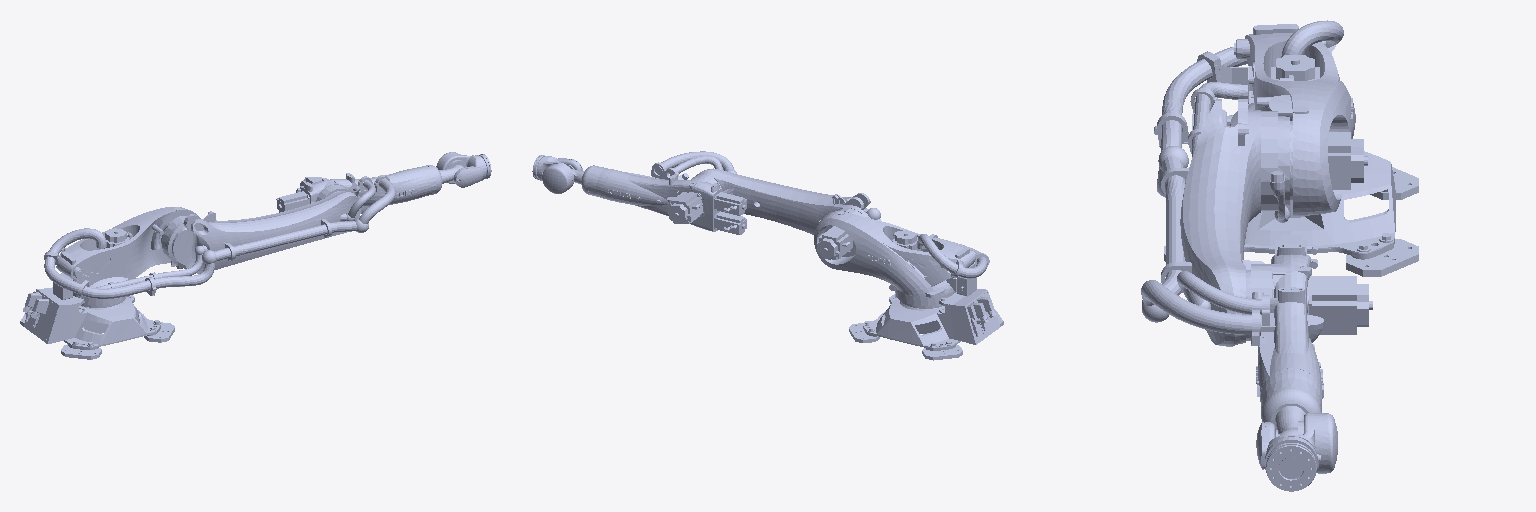
The robot description file, URDF, robot "KR210_R3300_K_ultra":
<robot
  name="KR210_R3300_K_ultra">
  <link
    name="base_link">
    <inertial>
      <origin
        xyz="-0.20775 0.12808 -0.00055823"
        rpy="0 0 0" />
      <mass
        value="120.88" />
      <inertia
        ixx="4.0664"
        ixy="0.91423"
        ixz="-0.027244"
        iyy="11.296"
        iyz="0.010672"
        izz="9.0263" />
    </inertial>
    <visual>
      <origin
        xyz="0 0 0"
        rpy="0 0 0" />
      <geometry>
        <mesh
          filename="package://kuka_kr210_support/meshes/kr210r3300kultra/base_link.STL" />
      </geometry>
      <material
        name="">
        <color
          rgba="0.79216 0.81961 0.93333 1" />
      </material>
    </visual>
    <collision>
      <origin
        xyz="0 0 0"
        rpy="0 0 0" />
      <geometry>
        <mesh
          filename="package://kuka_kr210_support/meshes/kr210r3300kultra/base_link.STL" />
      </geometry>
    </collision>
  </link>
  <link
    name="link_a1">
    <inertial>
      <origin
        xyz="0.17966 -0.010383 0.28193"
        rpy="0 0 0" />
      <mass
        value="146.16" />
      <inertia
        ixx="6.6882"
        ixy="-1.2586"
        ixz="-2.0837"
        iyy="19.319"
        iyz="-0.47947"
        izz="20.822" />
    </inertial>
    <visual>
      <origin
        xyz="0 0 0"
        rpy="0 0 0" />
      <geometry>
        <mesh
          filename="package://kuka_kr210_support/meshes/kr210r3300kultra/link_a1.STL" />
      </geometry>
      <material
        name="">
        <color
          rgba="0.79216 0.81961 0.93333 1" />
      </material>
    </visual>
    <collision>
      <origin
        xyz="0 0 0"
        rpy="0 0 0" />
      <geometry>
        <mesh
          filename="package://kuka_kr210_support/meshes/kr210r3300kultra/link_a1.STL" />
      </geometry>
    </collision>
  </link>
  <joint
    name="joint_a1"
    type="revolute">
    <origin
      xyz="0 0.01 0.21464"
      rpy="0.0 0.0 0.0" />
    <parent
      link="base_link" />
    <child
      link="link_a1" />
    <axis
      xyz="0 0 -1" />
    <limit
      lower="-3.2289"
      upper="3.2289"
      effort="0"
      velocity="1.8326" />
  </joint>
  <link
    name="link_a2">
    <inertial>
      <origin
        xyz="0.0055355 -0.26456 0.54174"
        rpy="0 0 0" />
      <mass
        value="126.48" />
      <inertia
        ixx="27.784"
        ixy="0.0076365"
        ixz="-0.045473"
        iyy="27.097"
        iyz="2.6236"
        izz="2.5095" />
    </inertial>
    <visual>
      <origin
        xyz="0 0 0"
        rpy="0 0 0" />
      <geometry>
        <mesh
          filename="package://kuka_kr210_support/meshes/kr210r3300kultra/link_a2.STL" />
      </geometry>
      <material
        name="">
        <color
          rgba="0.79216 0.81961 0.93333 1" />
      </material>
    </visual>
    <collision>
      <origin
        xyz="0 0 0"
        rpy="0 0 0" />
      <geometry>
        <mesh
          filename="package://kuka_kr210_support/meshes/kr210r3300kultra/link_a2.STL" />
      </geometry>
    </collision>
  </link>
  <joint
    name="joint_a2"
    type="revolute">
    <origin
      xyz="0.75 -0.01 0.37536"
      rpy="0.0 1.570796 0.0" />
    <parent
      link="link_a1" />
    <child
      link="link_a2" />
    <axis
      xyz="0 1 0" />
    <limit
      lower="-2.0944"
      upper="1.2217"
      effort="0"
      velocity="1.7628" />
  </joint>
  <link
    name="link_a3">
    <inertial>
      <origin
        xyz="0.23647 -0.043853 -0.014836"
        rpy="0 0 0" />
      <mass
        value="85.793" />
      <inertia
        ixx="2.3827"
        ixy="-0.12099"
        ixz="0.23925"
        iyy="11.514"
        iyz="0.29194"
        izz="12.66" />
    </inertial>
    <visual>
      <origin
        xyz="0 0 0"
        rpy="0 0 0" />
      <geometry>
        <mesh
          filename="package://kuka_kr210_support/meshes/kr210r3300kultra/link_a3.STL" />
      </geometry>
      <material
        name="">
        <color
          rgba="0.79216 0.81961 0.93333 1" />
      </material>
    </visual>
    <collision>
      <origin
        xyz="0 0 0"
        rpy="0 0 0" />
      <geometry>
        <mesh
          filename="package://kuka_kr210_support/meshes/kr210r3300kultra/link_a3.STL" />
      </geometry>
    </collision>
  </link>
  <joint
    name="joint_a3"
    type="revolute">
    <origin
      xyz="0 0.01 1.35"
      rpy="0.0 -1.570796 0.0" />
    <parent
      link="link_a2" />
    <child
      link="link_a3" />
    <axis
      xyz="0 1 0" />
    <limit
      lower="-2.0944"
      upper="2.7053"
      effort="0"
      velocity="1.8675" />
  </joint>
  <link
    name="link_a4">
    <inertial>
      <origin
        xyz="-0.0009255 0.11699 3.1061E-07"
        rpy="0 0 0" />
      <mass
        value="5.113" />
      <inertia
        ixx="0.062378"
        ixy="0.00098507"
        ixz="5.8079E-08"
        iyy="0.024696"
        iyz="-1.69E-07"
        izz="0.061907" />
    </inertial>
    <visual>
      <origin
        xyz="0 0 0"
        rpy="0 0 0" />
      <geometry>
        <mesh
          filename="package://kuka_kr210_support/meshes/kr210r3300kultra/link_a4.STL" />
      </geometry>
      <material
        name="">
        <color
          rgba="0.79216 0.81961 0.93333 1" />
      </material>
    </visual>
    <collision>
      <origin
        xyz="0 0 0"
        rpy="0 0 0" />
      <geometry>
        <mesh
          filename="package://kuka_kr210_support/meshes/kr210r3300kultra/link_a4.STL" />
      </geometry>
    </collision>
  </link>
  <joint
    name="joint_a4"
    type="revolute">
    <origin
      xyz="0.92112 -0.01 -0.041"
      rpy="0.0 0.0 -1.570796" />
    <parent
      link="link_a3" />
    <child
      link="link_a4" />
    <axis
      xyz="0 -1 0" />
    <limit
      lower="-6.1087"
      upper="6.1087"
      effort="0"
      velocity="2.3736" />
  </joint>
  <link
    name="link_a5">
    <inertial>
      <origin
        xyz="0.054314 0.027833 -2.6352E-05"
        rpy="0 0 0" />
      <mass
        value="11.495" />
      <inertia
        ixx="0.11957"
        ixy="0.027139"
        ixz="1.2241E-05"
        iyy="0.11876"
        iyz="2.1645E-05"
        izz="0.17595" />
    </inertial>
    <visual>
      <origin
        xyz="0 0 0"
        rpy="0 0 0" />
      <geometry>
        <mesh
          filename="package://kuka_kr210_support/meshes/kr210r3300kultra/link_a5.STL" />
      </geometry>
      <material
        name="">
        <color
          rgba="0.79216 0.81961 0.93333 1" />
      </material>
    </visual>
    <collision>
      <origin
        xyz="0 0 0"
        rpy="0 0 0" />
      <geometry>
        <mesh
          filename="package://kuka_kr210_support/meshes/kr210r3300kultra/link_a5.STL" />
      </geometry>
    </collision>
  </link>
  <joint
    name="joint_a5"
    type="revolute">
    <origin
      xyz="-0.01 0.27888 0"
      rpy="0.0 0.0 1.570796" />
    <parent
      link="link_a4" />
    <child
      link="link_a5" />
    <axis
      xyz="0 1 0" />
    <limit
      lower="-2.138"
      upper="2.138"
      effort="0"
      velocity="2.2515" />
  </joint>
  <link
    name="link_a6">
    <inertial>
      <origin
        xyz="0.021126 -0.010012 3.8671E-05"
        rpy="0 0 0" />
      <mass
        value="0.64081" />
      <inertia
        ixx="0.0038456"
        ixy="-1.5728E-07"
        ixz="9.6859E-08"
        iyy="0.0019693"
        iyz="3.5182E-08"
        izz="0.0019665" />
    </inertial>
    <visual>
      <origin
        xyz="0 0 0"
        rpy="0 0 0" />
      <geometry>
        <mesh
          filename="package://kuka_kr210_support/meshes/kr210r3300kultra/link_a6.STL" />
      </geometry>
      <material
        name="">
        <color
          rgba="0.79216 0.81961 0.93333 1" />
      </material>
    </visual>
    <collision>
      <origin
        xyz="0 0 0"
        rpy="0 0 0" />
      <geometry>
        <mesh
          filename="package://kuka_kr210_support/meshes/kr210r3300kultra/link_a6.STL" />
      </geometry>
    </collision>
  </link>
  <joint
    name="joint_a6"
    type="revolute">
    <origin
      xyz="0.205 0.0 0.0011076"
      rpy="0.0 0 0" />
    <parent
      link="link_a5" />
    <child
      link="link_a6" />
    <axis
      xyz="-1 0 0" />
    <limit
      lower="-6.1087"
      upper="6.1087"
      effort="0"
      velocity="3.5954" />
  </joint>
</robot>

--- What the picture shows (computed from the rendered views, not written in the file) ---
The picture shows the robot from 3 angles, left to right: view 1: azimuth 30°, elevation 25°; view 2: azimuth 150°, elevation 25°; view 3: azimuth 270°, elevation 25°; orthographic projection.
Robot: KR210_R3300_K_ultra — 7 links, 6 joints (6 revolute); root link base_link; default pose: every joint at zero.
Links seen in each view (by area): view 1: link_a1, link_a2, base_link, link_a3, link_a5; view 2: link_a1, link_a3, base_link, link_a2, link_a5; view 3: link_a1, link_a2, link_a3, base_link, link_a5, link_a6, link_a4.
Boxes of the visible links, box(x1,y1,x2,y2) form: link_a1: box(44, 207, 216, 307); link_a2: box(161, 191, 364, 273); base_link: box(20, 287, 174, 359); link_a3: box(276, 165, 438, 232); link_a5: box(436, 152, 486, 187); link_a1: box(814, 208, 989, 308); link_a3: box(585, 151, 746, 234); base_link: box(849, 289, 1003, 360); link_a2: box(696, 168, 879, 234); link_a5: box(537, 156, 582, 193); link_a1: box(1154, 20, 1367, 216); link_a2: box(1142, 99, 1292, 346); link_a3: box(1141, 235, 1372, 422); base_link: box(1164, 91, 1418, 276); link_a5: box(1256, 413, 1337, 473); link_a6: box(1266, 443, 1316, 491); link_a4: box(1261, 386, 1320, 435).
Bounding box of the posed robot: 4.17 × 1.1 × 0.8838 m (x, y, z).
7 mesh visuals loaded from 7 distinct referenced files (7 binary STL).